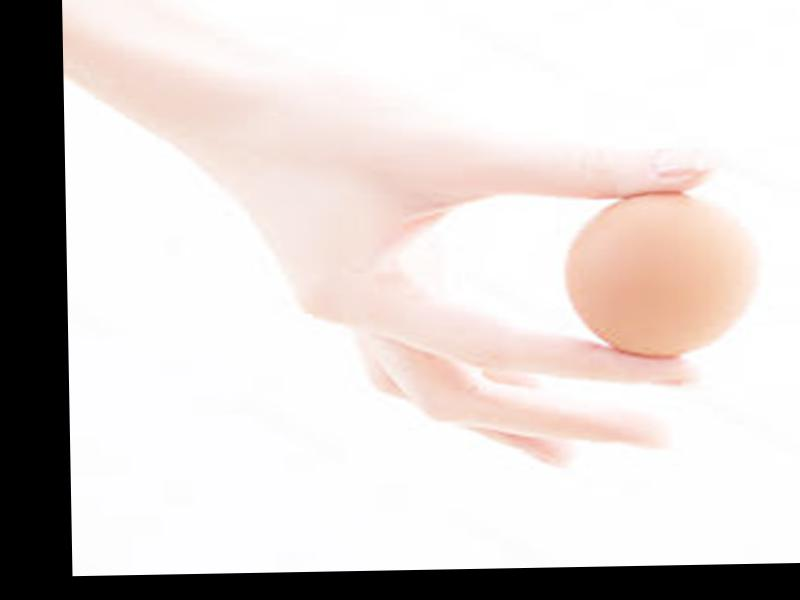Eggs: (567, 188, 758, 360)
